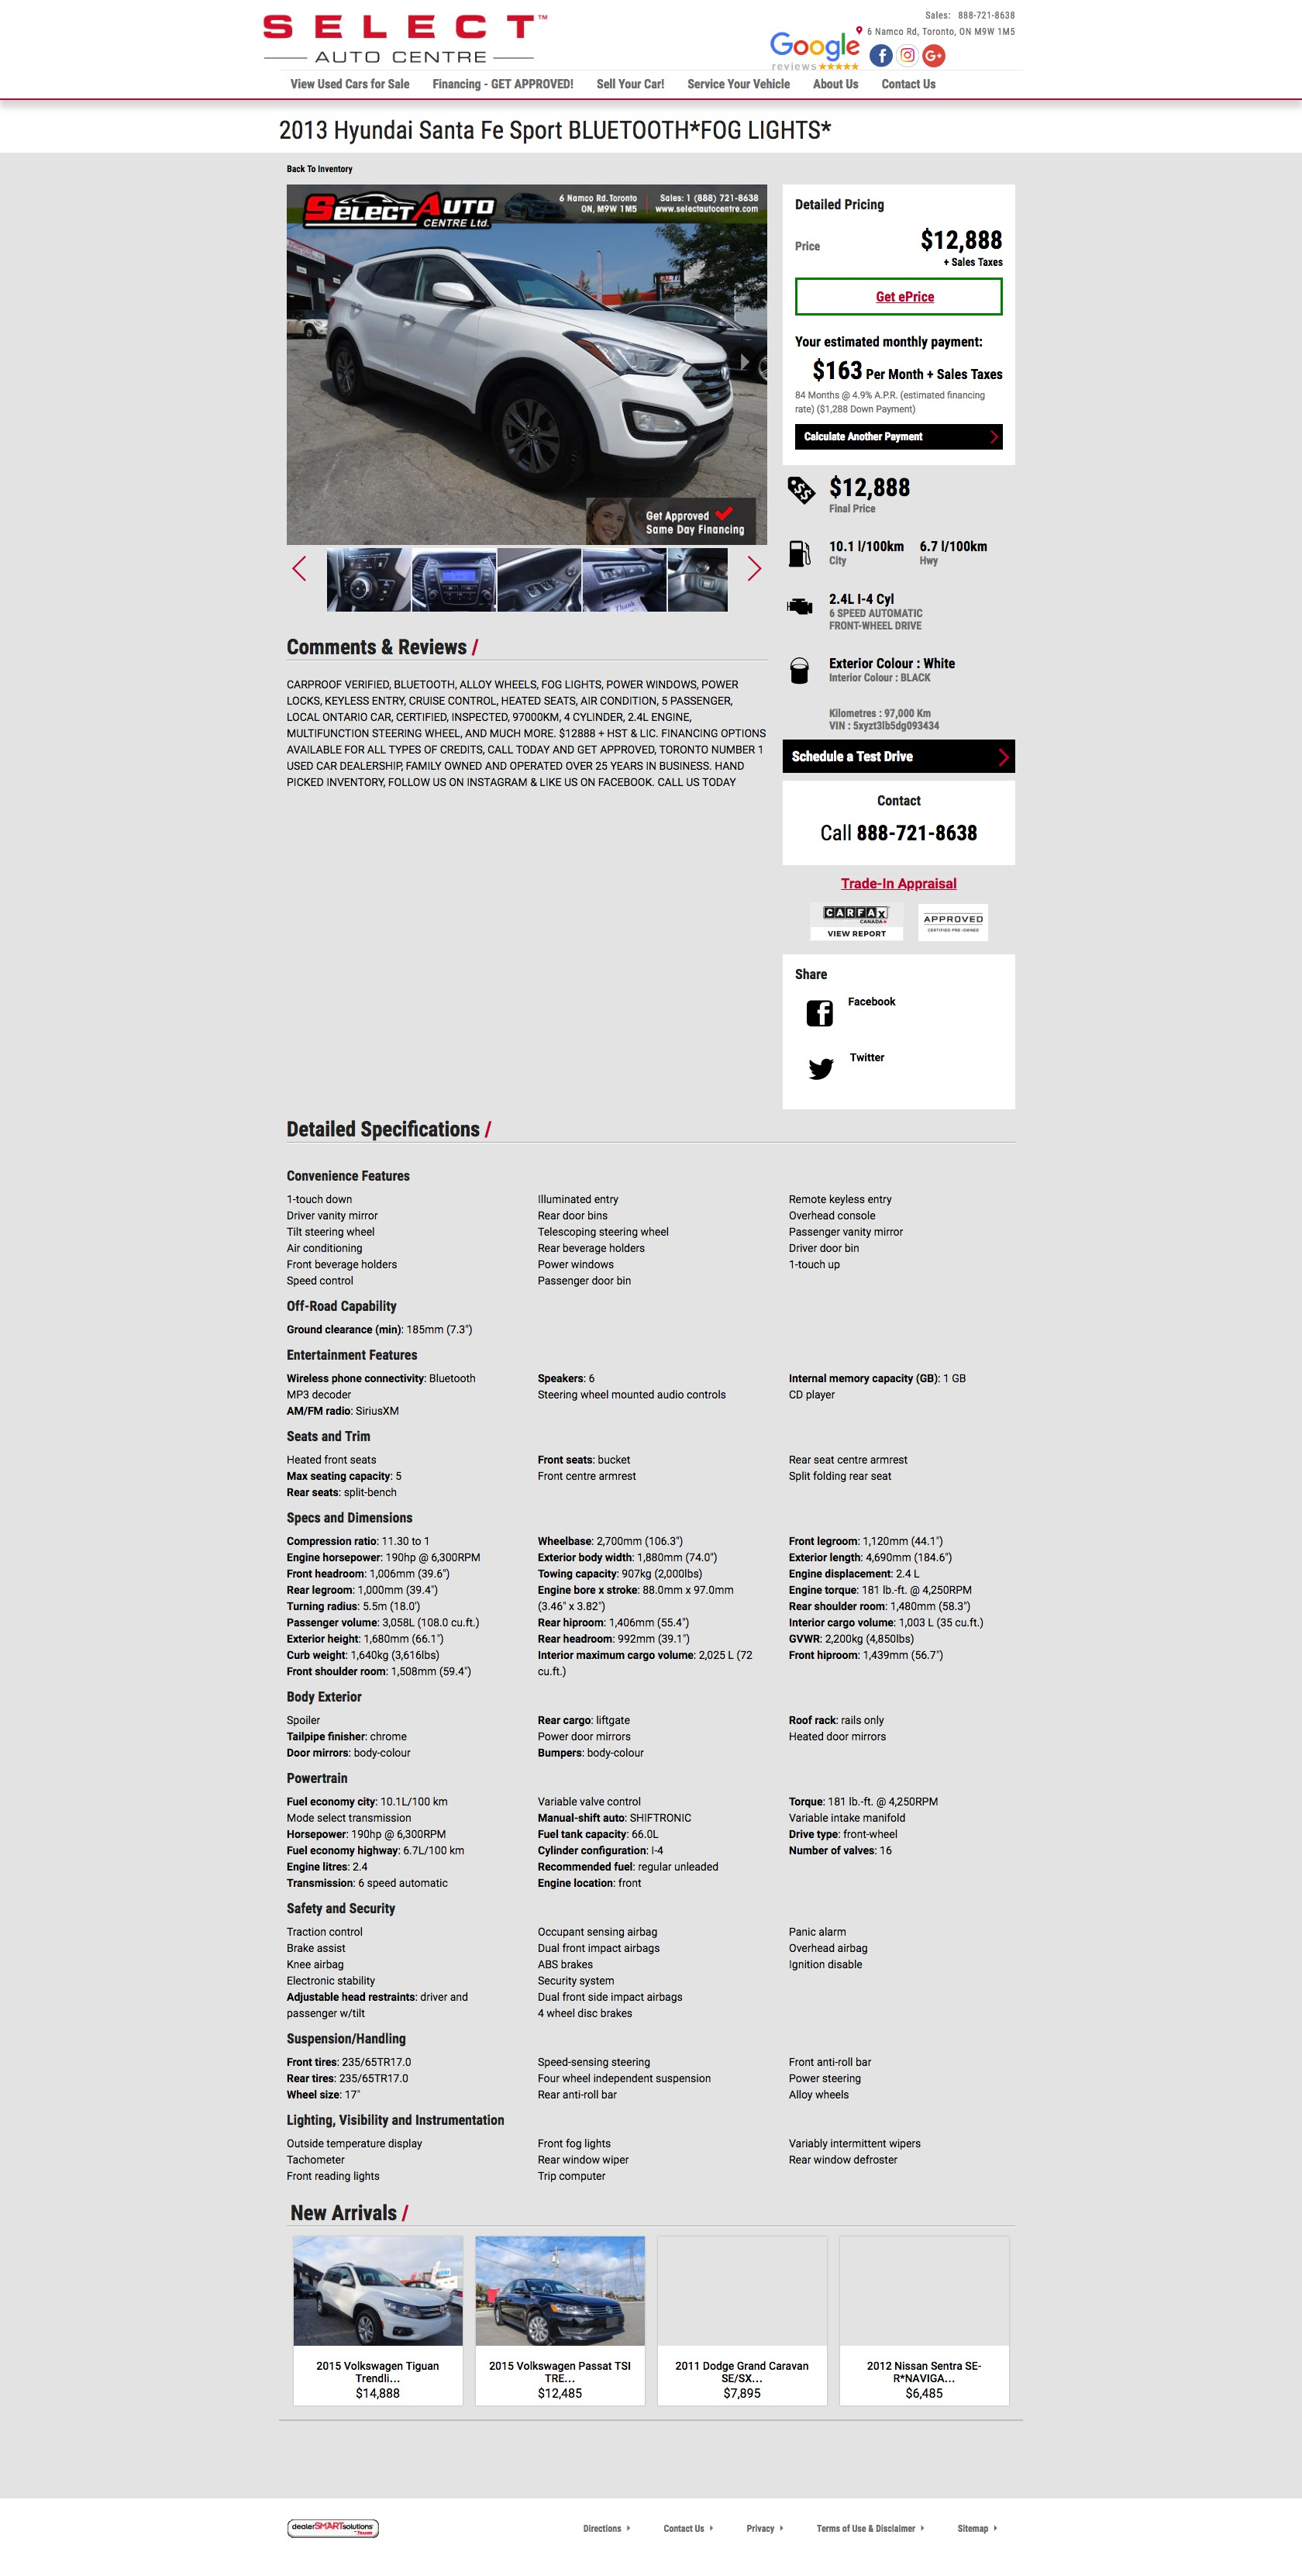car: (747, 555, 764, 585)
